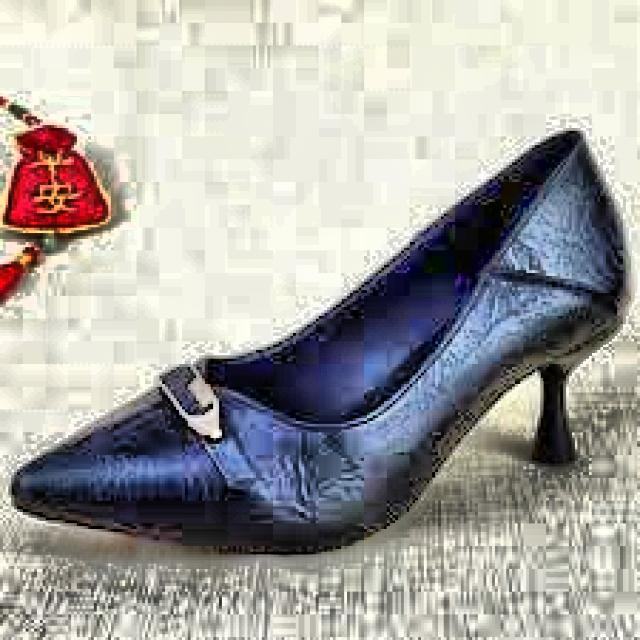shoes: (2, 123, 634, 557)
